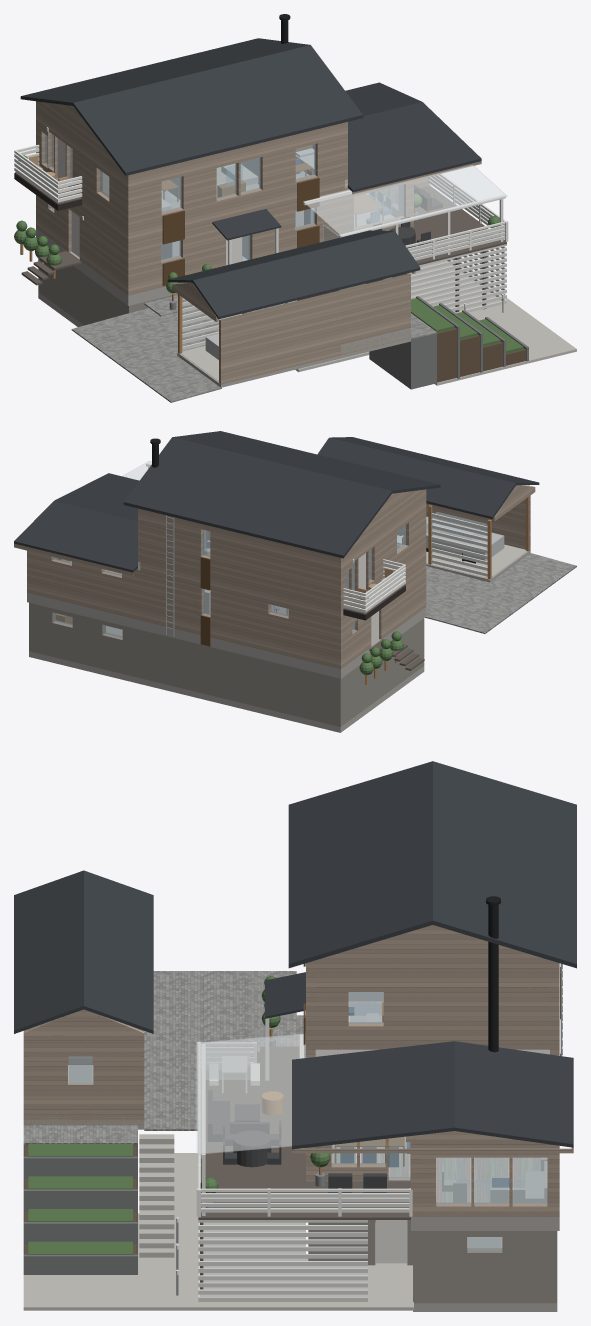
File: marmorikatu-house.glb
3 renders of one model, top to bottom at view 1: azimuth 30°, elevation 25°; view 2: azimuth 150°, elevation 25°; view 3: azimuth 270°, elevation 25°, orthographic. The views are drawn at different scales.
Parts seen in each view (by area): view 1: R.main.s, TR.wW.seg0, TR.roof.w, R.wing.s, T.perg.canopy, TR.drive.slab.a, R.main.n, F1.wW.seg0, K.wW.seg0, T.back.fill, T.deck, F1.wS.blk.seg1 (+34 smaller); view 2: R.main.n, K.wN.seg0, F2.wN.seg0, R.wing.n, TR.roof.e, TR.drive.slab.a, R.main.s, F1.slab, F1.wN.blk.seg2, F1.wN.blk.seg1, F1.wN.blk.seg0, F2.wN.seg1 (+30 smaller); view 3: R.main.s, R.main.n, R.wing.s, T.ground, F2.wE.seg1, T.perg.canopy, R.wing.n, TR.roof.e, TR.roof.w, T.deck, R.gable.e, TR.drive.slab.b (+62 smaller).
Part boxes in pixels (x1,y1,x2,y2): R.main.s: (73,45,363,175); TR.wW.seg0: (219,274,410,384); TR.roof.w: (193,231,420,319); R.wing.s: (348,102,481,192); T.perg.canopy: (303,165,507,236); TR.drive.slab.a: (71,315,221,402); R.main.n: (20,38,309,105); F1.wW.seg0: (79,199,134,294); K.wW.seg0: (38,259,130,325); T.back.fill: (369,333,436,389); T.deck: (396,185,506,265); F1.wS.blk.seg1: (179,208,225,275); R.main.n: (123,437,391,558); K.wN.seg0: (122,625,341,726); F2.wN.seg0: (210,526,343,610); R.wing.n: (14,501,137,572); TR.roof.e: (317,437,515,519); TR.drive.slab.a: (438,553,576,633); R.main.s: (172,431,440,493); F1.slab: (27,592,426,678); F1.wN.blk.seg2: (138,561,204,634); F1.wN.blk.seg1: (210,579,271,651); F1.wN.blk.seg0: (288,598,344,668); F2.wN.seg1: (138,509,204,576); R.main.s: (288,761,432,968); R.main.n: (433,761,576,968); R.wing.s: (292,1041,454,1149); T.ground: (157,1153,413,1310); F2.wE.seg1: (383,975,559,1049); T.perg.canopy: (196,1033,305,1154); R.wing.n: (454,1041,573,1147); TR.roof.e: (84,870,153,1033); TR.roof.w: (14,870,83,1033); T.deck: (198,1071,410,1219); R.gable.e: (306,925,559,975); TR.drive.slab.b: (144,1003,198,1130).
Size of the model in its own units: 20.42 by 11.68 by 17.73.
41 materials, 4 textured.
